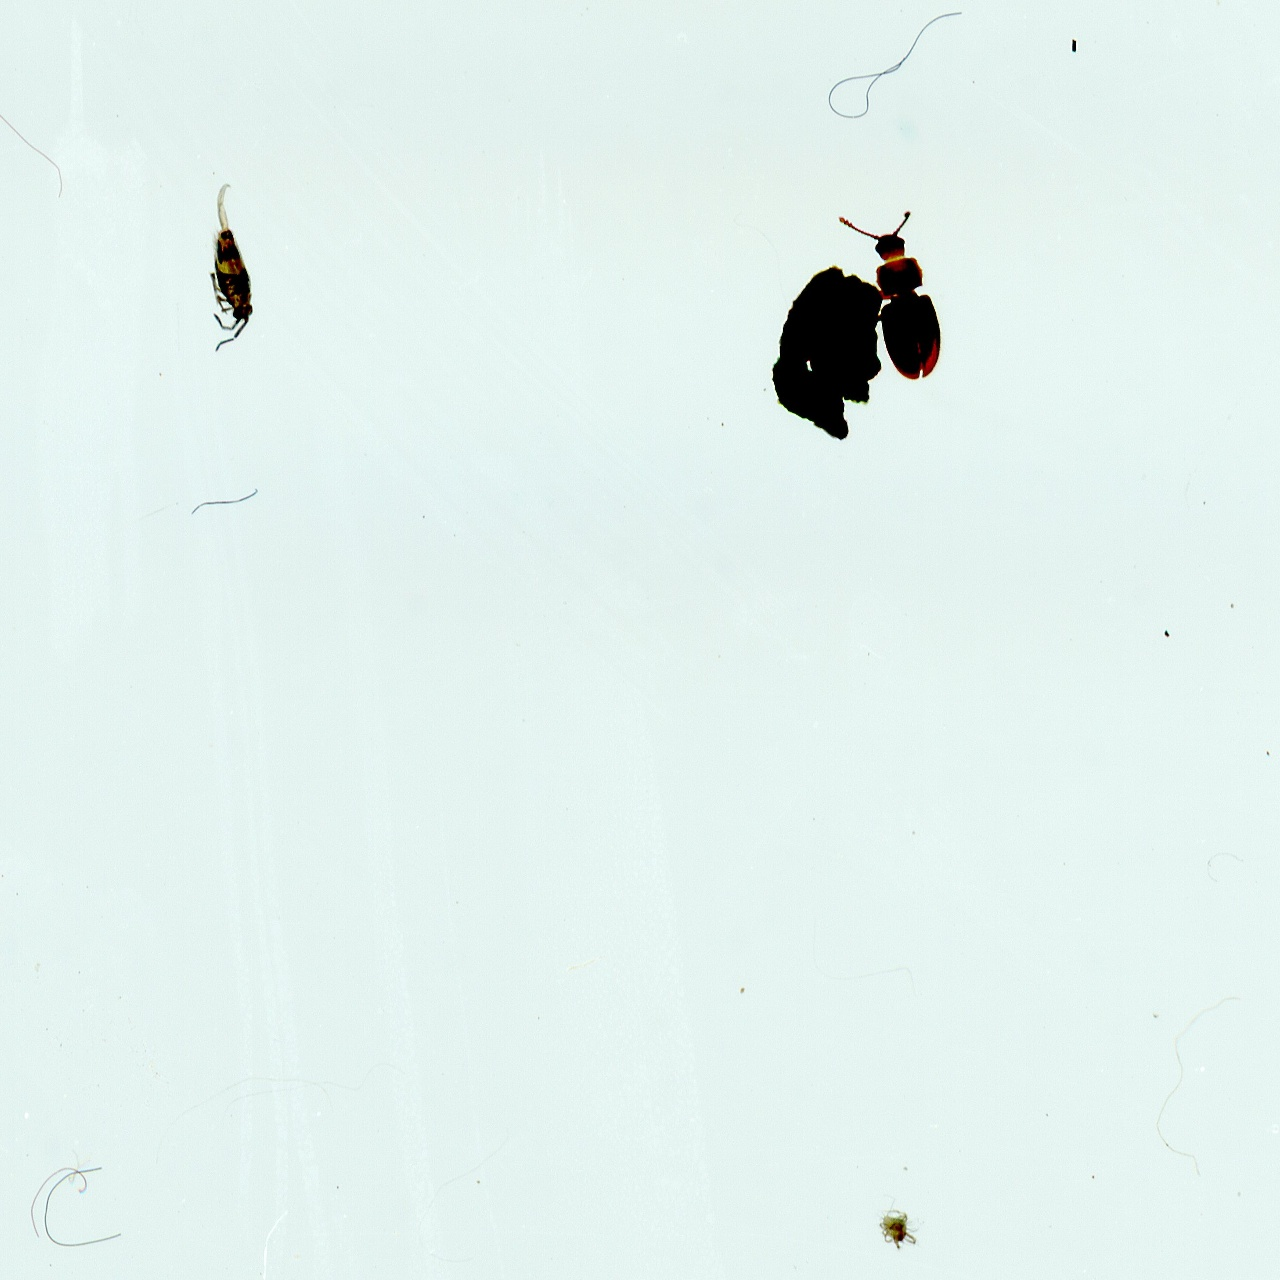arthropod: (833, 193, 959, 392), (185, 175, 268, 357), (875, 1208, 919, 1251)
